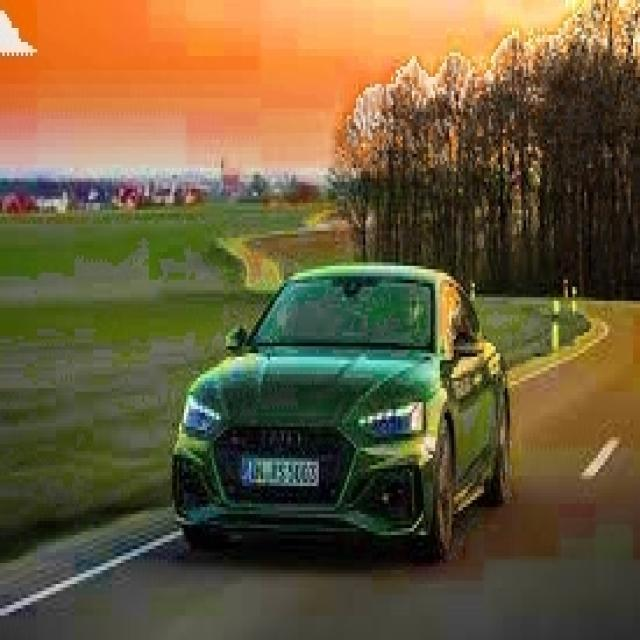green: (173, 258, 511, 552)
